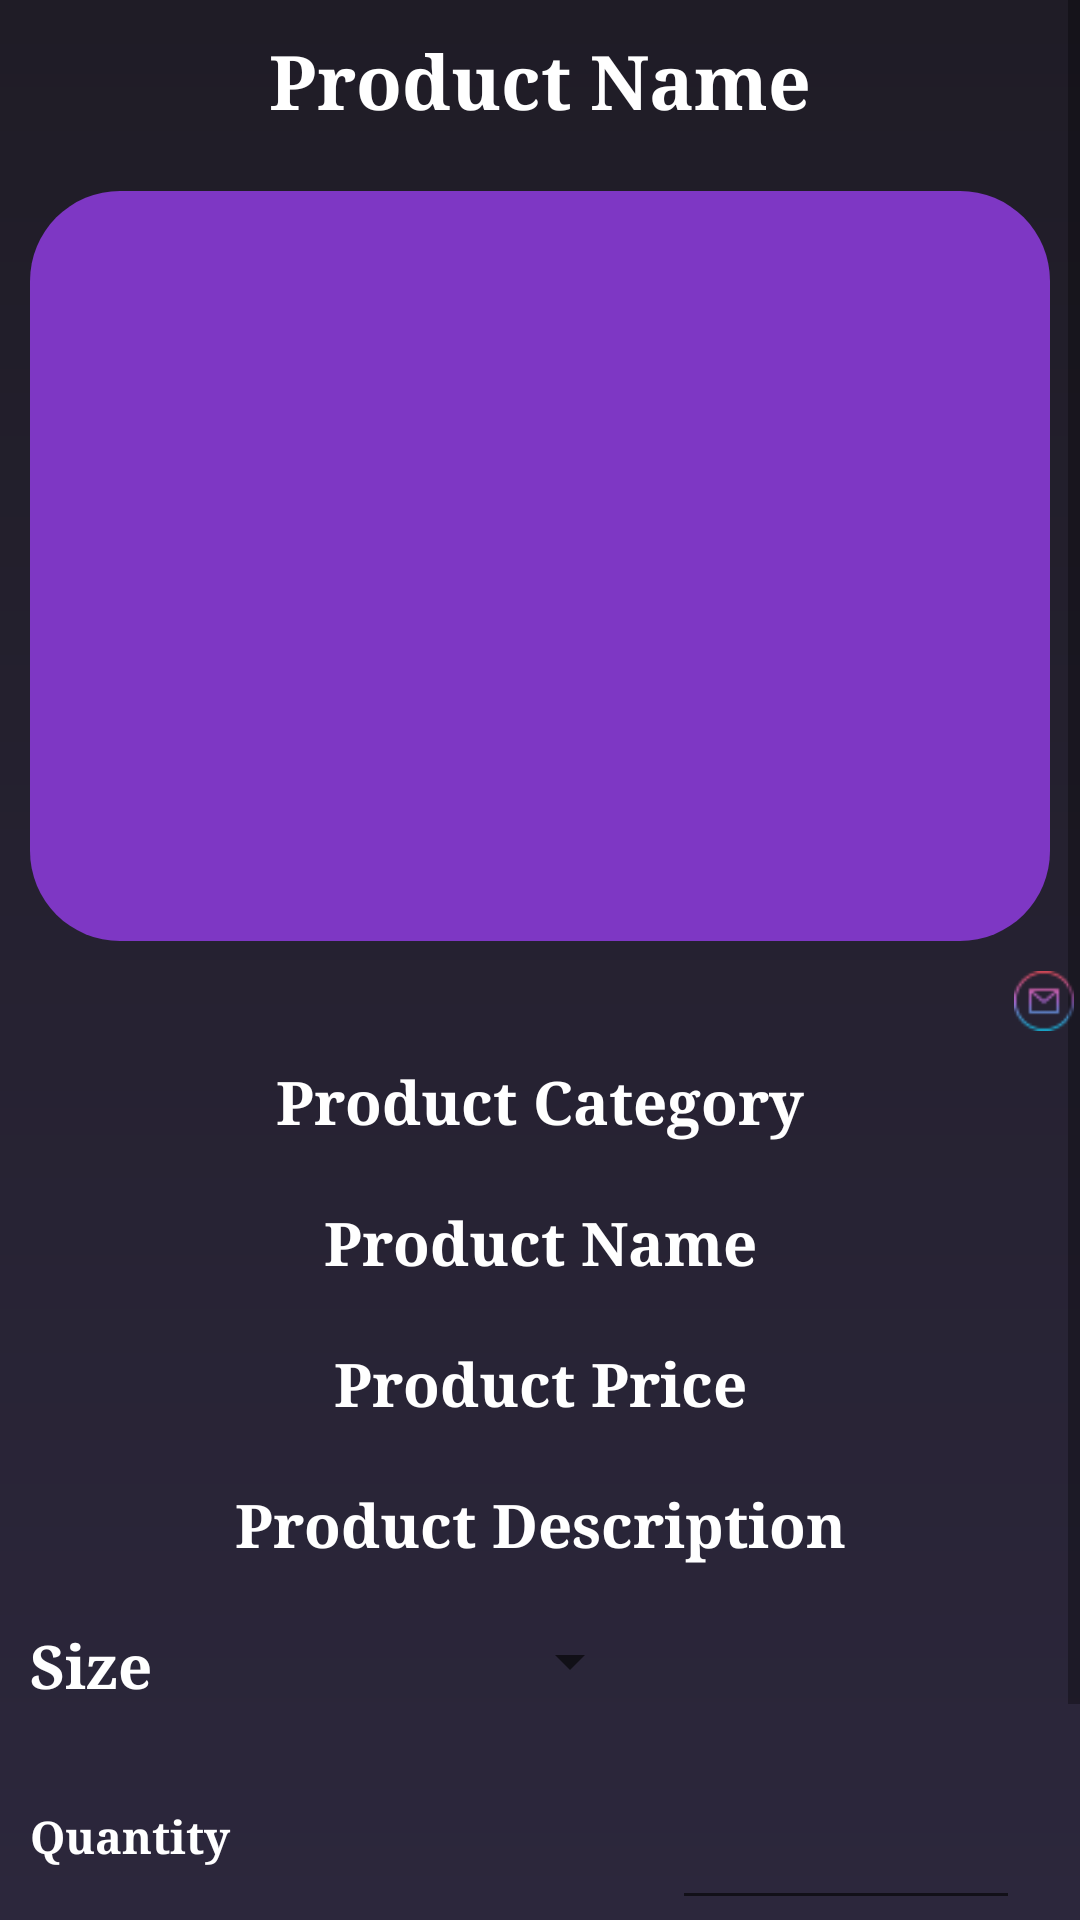

Where icons sit on this 1080 × 1920 app screen, as (x1, y1, x2, y2):
email: (1014, 971, 1074, 1031)
